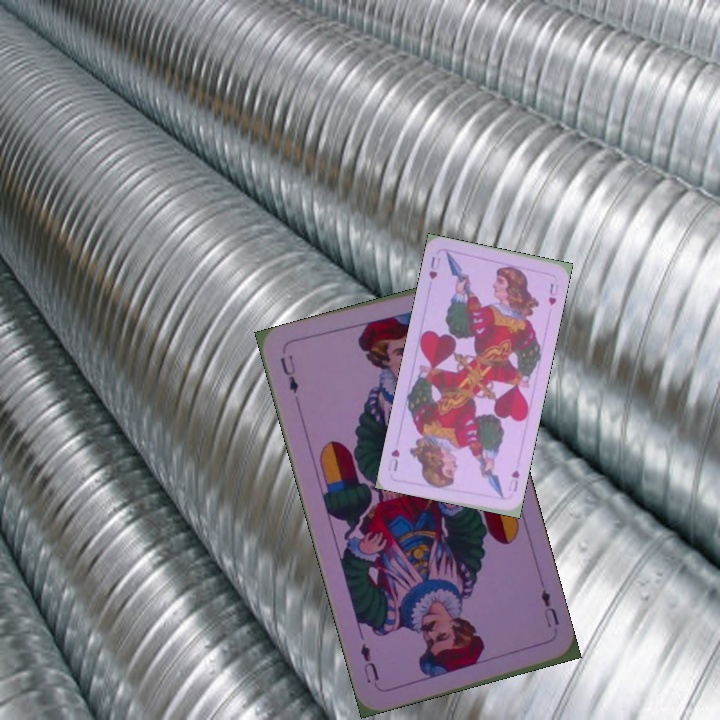EU: (536, 585, 562, 630), (276, 351, 301, 396)
HU: (425, 252, 443, 282), (504, 466, 522, 494)
